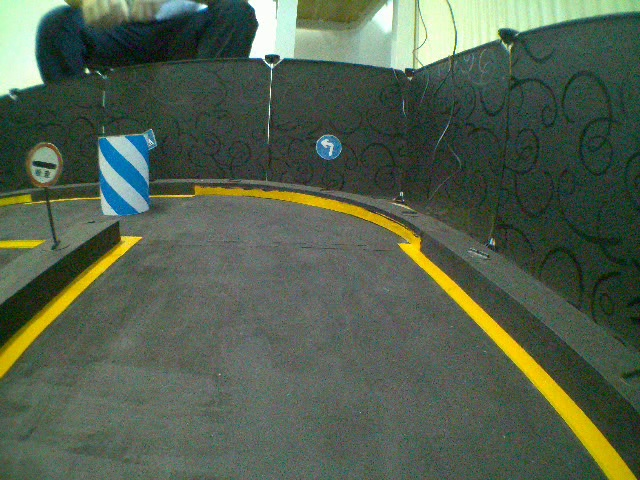bucket: (94, 129, 150, 217)
